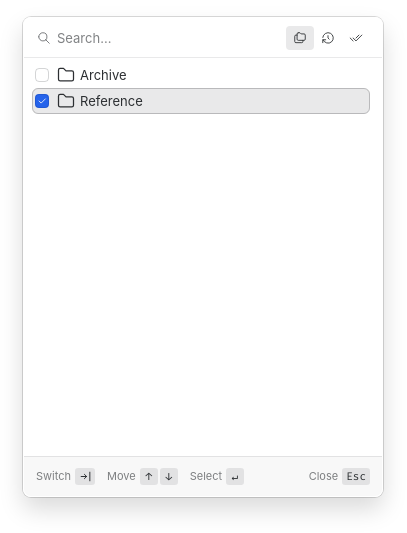
Scenario: FolderPickerPanel row context actions › offers all, recent, and selected folder views
Click the button named "Recent folders" at (328, 38), box [314, 26, 342, 50]
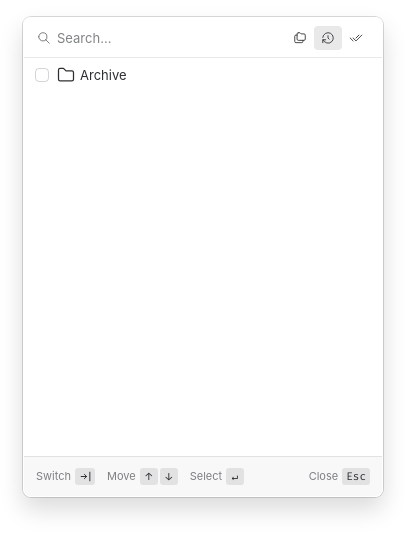
Check: the text "Archive" is shown, box [80, 67, 126, 83]
Check: the text "Reference" is gone
Click the button named "Selected folders" at (356, 38), box [342, 26, 370, 50]
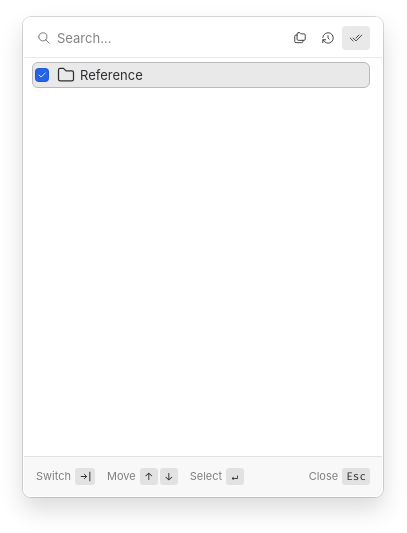
Check: the text "Reference" is shown, box [80, 67, 143, 83]
Check: the text "Archive" is gone
